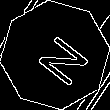N_NW: (23, 24, 87, 86)
